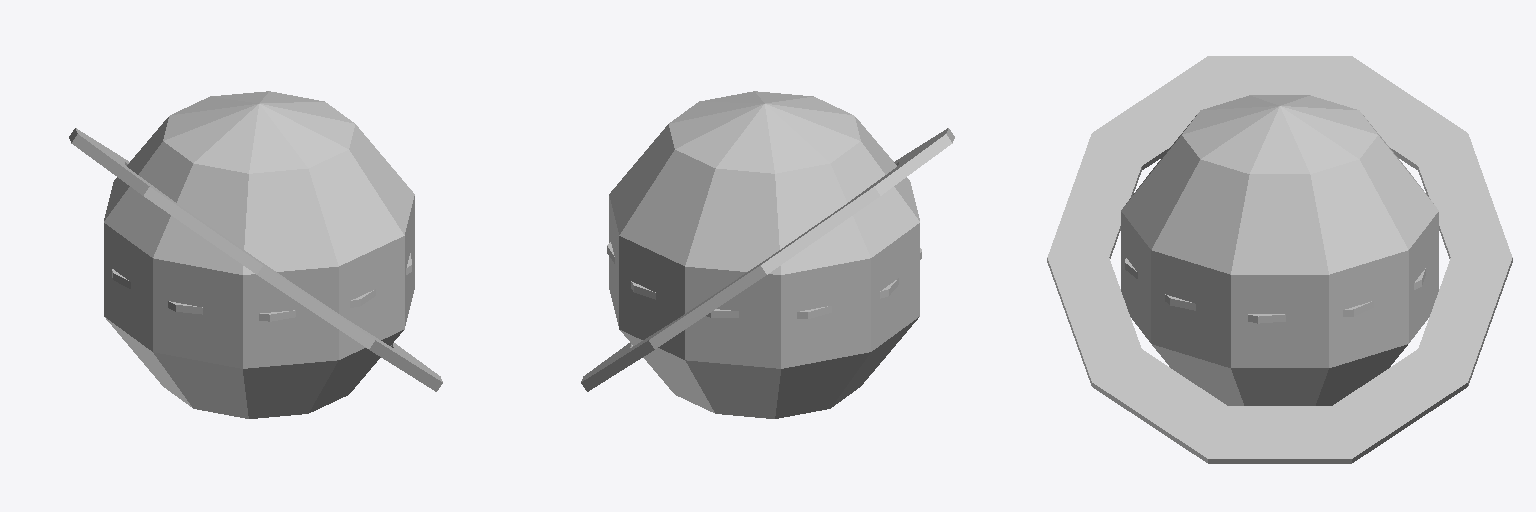
File: Enemy_Attack11.obj
3 renders of one model, left to right at view 1: azimuth 30°, elevation 25°; view 2: azimuth 150°, elevation 25°; view 3: azimuth 270°, elevation 25°, orthographic.
Parts seen in each view (by area): view 1: Sphere002, Tube001, Tube002; view 2: Sphere002, Tube001, Tube002; view 3: Sphere002, Tube001, Tube002.
Part boxes in pixels (left/top/right/bottom): Sphere002: left=104, top=91, right=414, bottom=418; Tube001: left=69, top=128, right=442, bottom=391; Tube002: left=112, top=253, right=411, bottom=321; Sphere002: left=609, top=91, right=919, bottom=418; Tube001: left=581, top=128, right=954, bottom=391; Tube002: left=607, top=242, right=921, bottom=318; Sphere002: left=1121, top=95, right=1438, bottom=405; Tube001: left=1047, top=56, right=1512, bottom=463; Tube002: left=1125, top=258, right=1425, bottom=323.
Size of the model in its own units: 23.43 by 22.83 by 31.73.